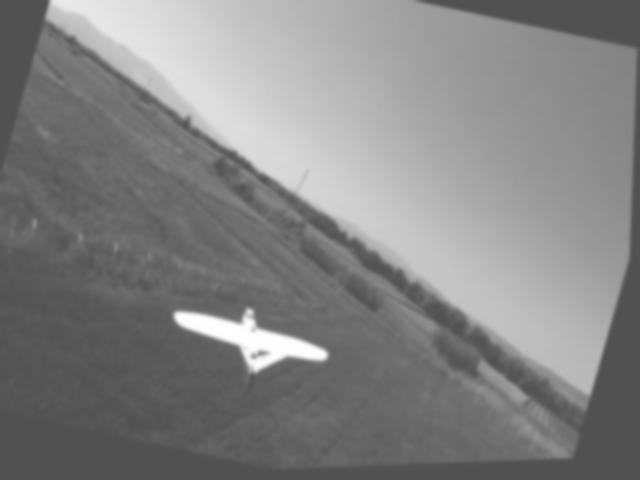hedef: (151, 279, 352, 424)
